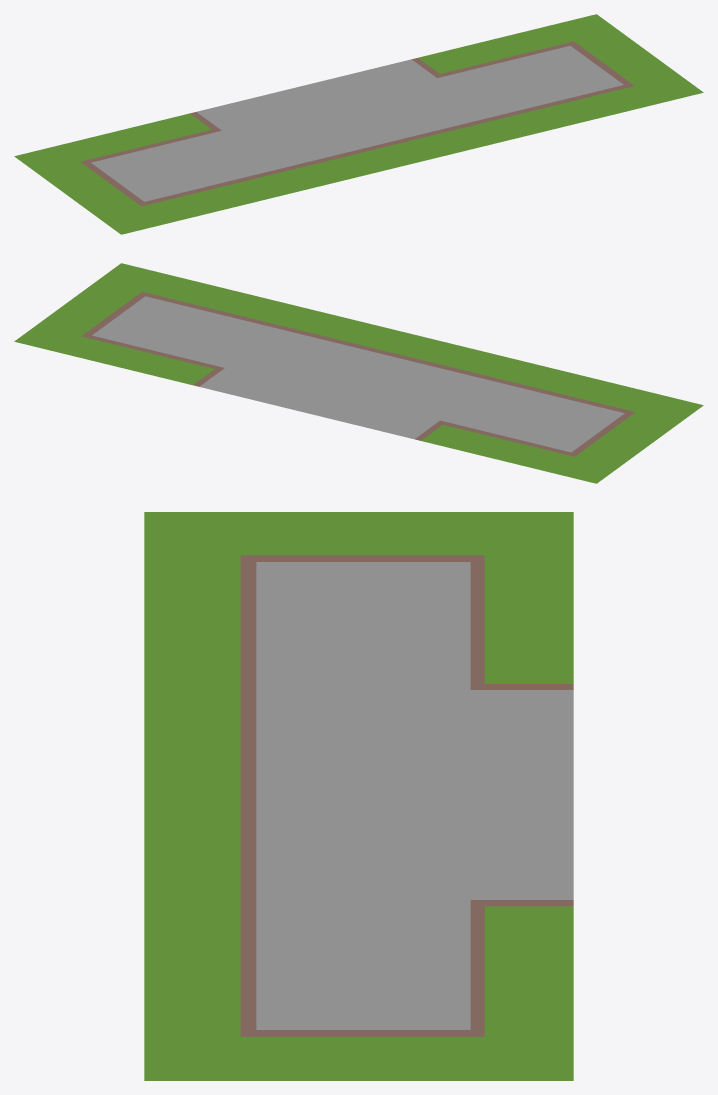
The model's file is Level Ground.fbx.
3 views of the same model, one above another, from view 1: azimuth 30°, elevation 25°; view 2: azimuth 150°, elevation 25°; view 3: azimuth 270°, elevation 25° (orthographic). The views are drawn at different scales.
Visible parts, largest first — view 1: Ground; view 2: Ground; view 3: Ground.
Boxes of the visible parts, bbox=[...] form: Ground: bbox=[14, 14, 703, 234]; Ground: bbox=[14, 263, 703, 483]; Ground: bbox=[144, 512, 573, 1080].
Bounding box in the file's own units: 86192 × 0.1 × 27492.
1 material, 1 textured.
